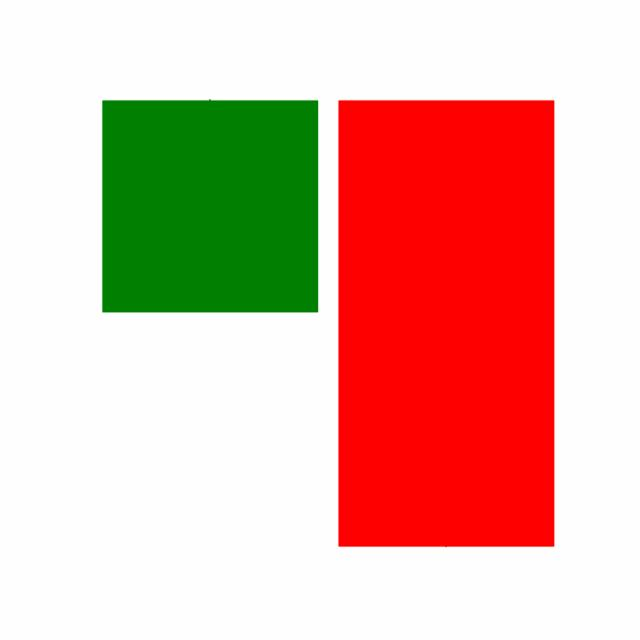Marubozu: (327, 95, 565, 552)
